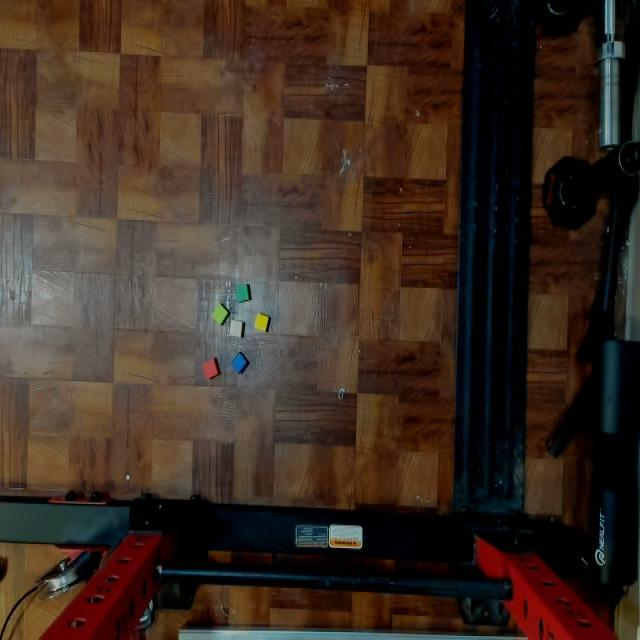block: (203, 357, 220, 379), (213, 303, 230, 324), (232, 352, 249, 372), (236, 284, 251, 303), (229, 320, 244, 337), (255, 315, 268, 331)
